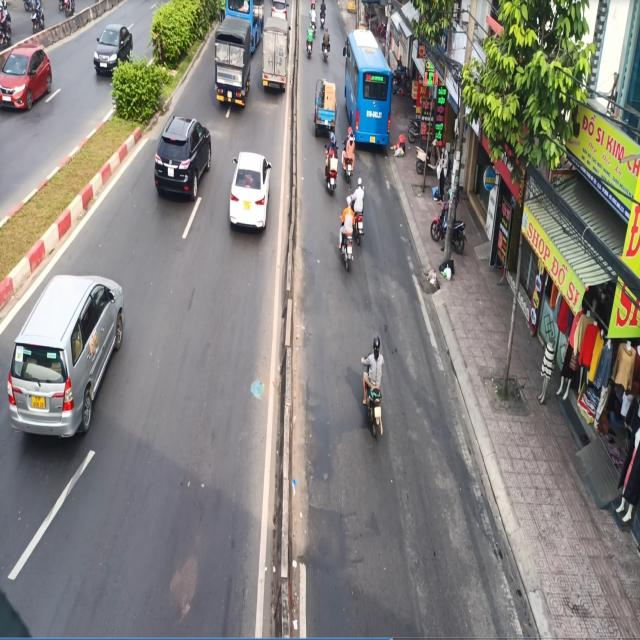bus: (344, 35, 391, 148)
car: (6, 264, 133, 464), (154, 111, 210, 213), (230, 142, 274, 234)
motorbike: (360, 335, 390, 439), (336, 190, 356, 277), (320, 128, 342, 193)
truck: (215, 14, 249, 117), (260, 13, 288, 97)
